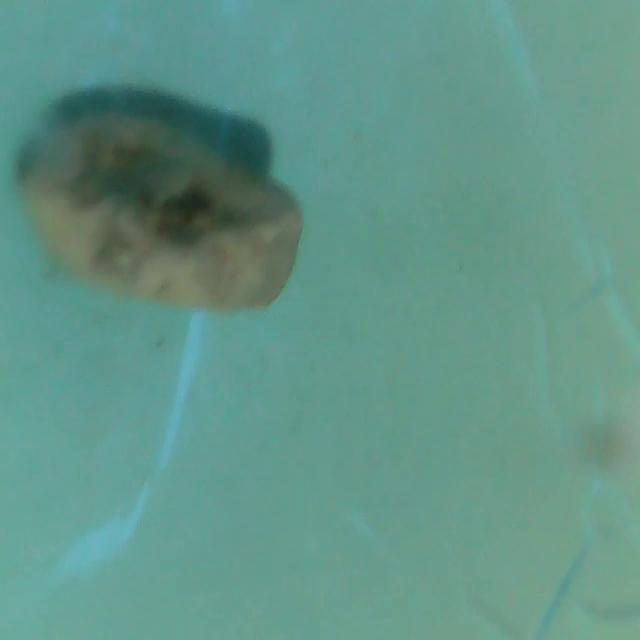rock: (21, 107, 308, 316)
